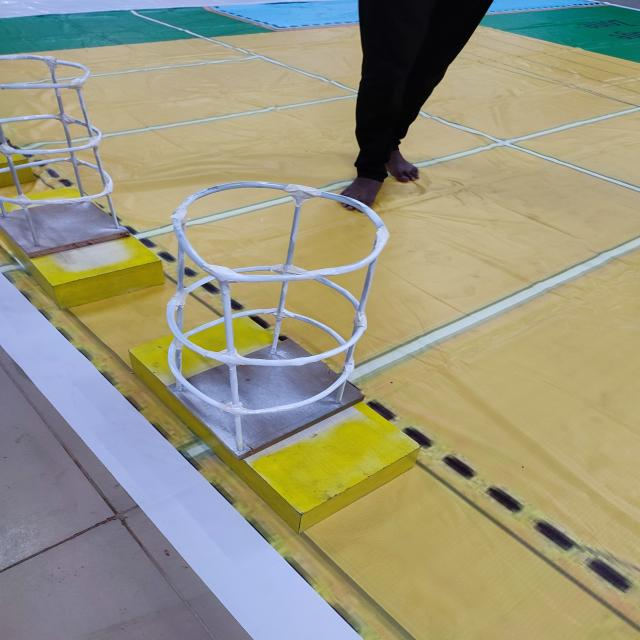silo: (152, 162, 395, 432), (0, 48, 141, 243)
